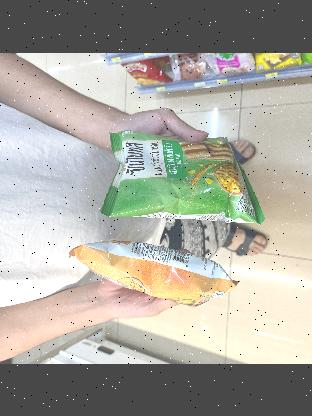Others: (102, 129, 260, 231), (66, 238, 240, 308)
